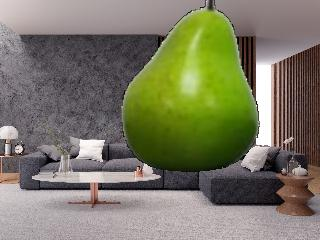pear: (121, 0, 258, 170)
